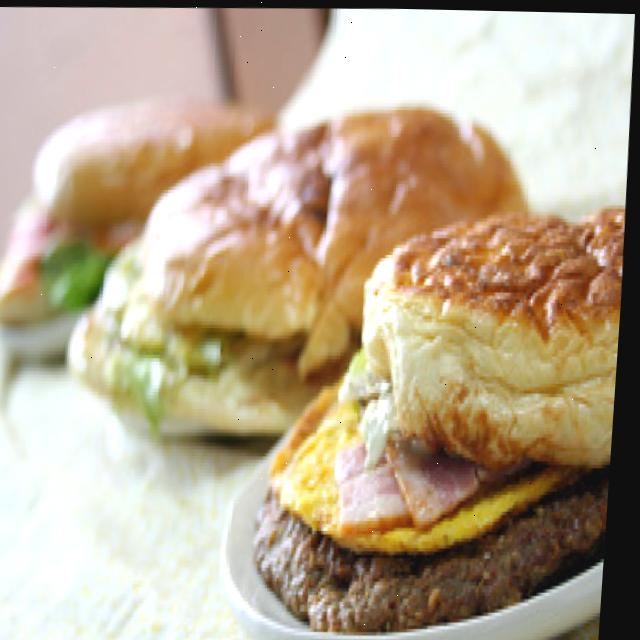汉堡快餐: (230, 164, 632, 640)
